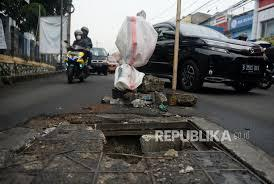Pothole: (0, 98, 273, 181)
